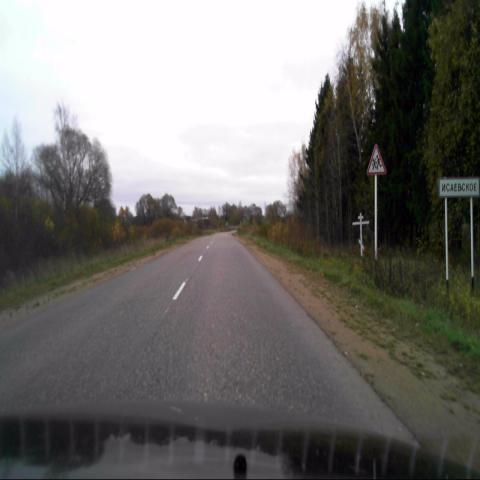1_23: (367, 144, 386, 176)
